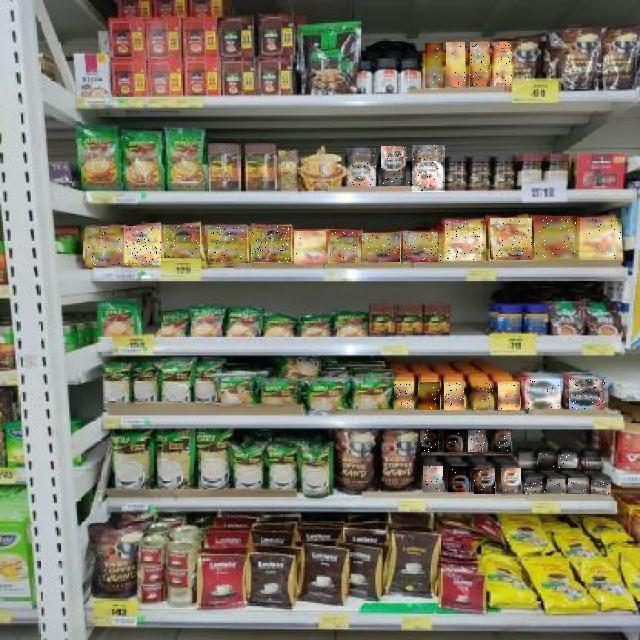Coffee: (580, 218, 622, 260), (535, 217, 577, 259), (490, 218, 532, 260), (446, 220, 486, 260), (412, 145, 445, 192), (85, 228, 123, 266), (124, 226, 161, 265), (208, 226, 247, 262), (252, 226, 291, 262), (570, 379, 608, 410), (165, 227, 201, 259), (404, 232, 442, 262), (382, 146, 410, 186), (347, 148, 376, 186), (362, 233, 400, 262), (525, 379, 560, 409), (294, 231, 326, 263), (470, 42, 490, 87), (330, 230, 358, 262), (446, 42, 465, 87), (425, 43, 443, 88), (494, 42, 512, 86), (418, 382, 440, 410), (498, 382, 520, 410), (474, 381, 494, 410), (448, 466, 470, 492), (394, 382, 414, 410), (445, 382, 465, 410), (474, 468, 495, 494), (423, 466, 443, 492), (501, 468, 521, 494), (420, 430, 438, 452), (468, 430, 486, 452), (444, 430, 461, 452), (494, 431, 511, 453), (526, 478, 546, 494), (568, 478, 589, 493), (538, 454, 557, 470), (581, 456, 604, 469), (591, 480, 611, 494), (558, 454, 577, 468), (547, 479, 565, 493), (520, 454, 536, 468)
